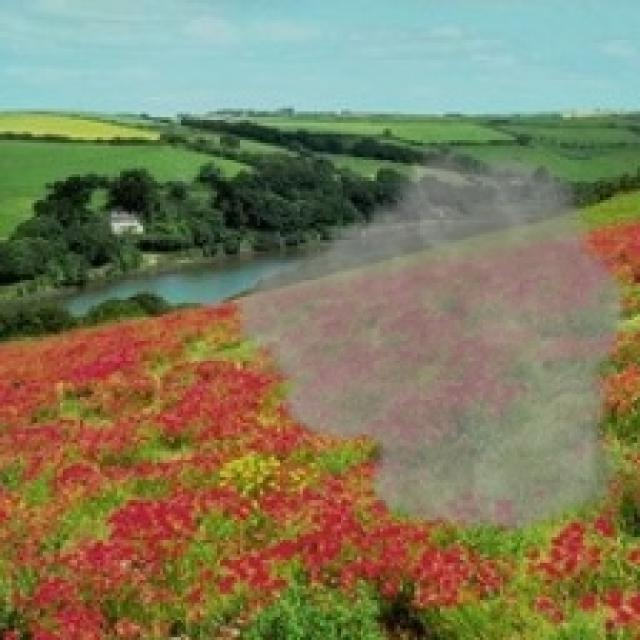Smoke: (220, 137, 634, 543)
